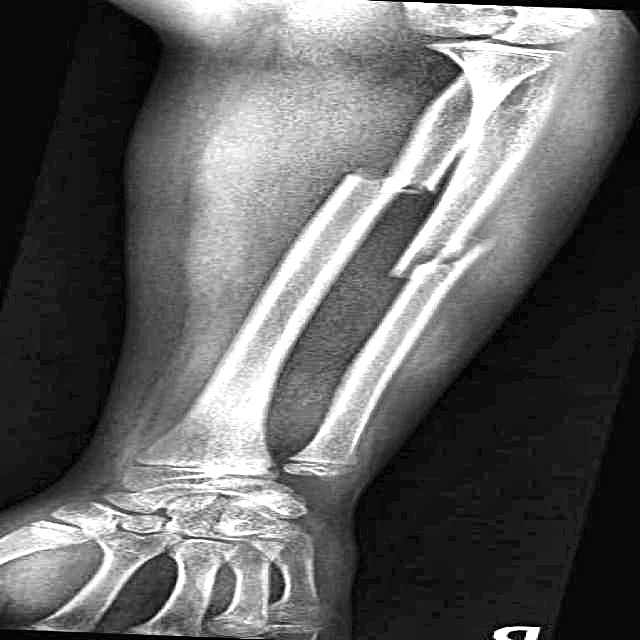Oblique Displaced: (382, 221, 507, 297)
Transverse: (315, 155, 455, 209)
